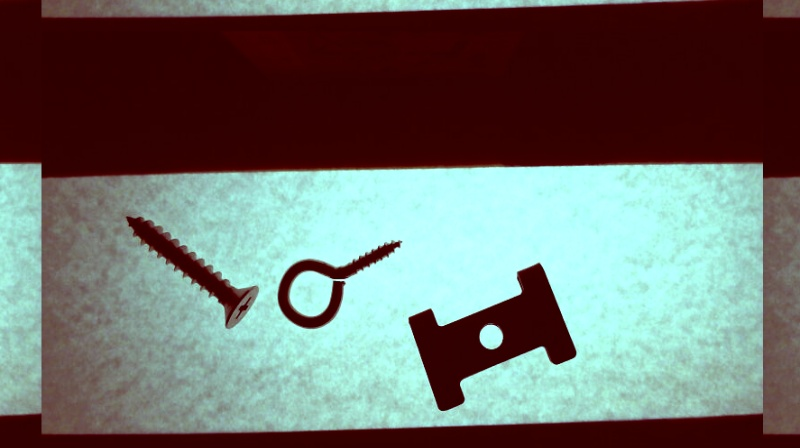O001: (273, 236, 406, 332)
O002: (404, 261, 580, 414)
S001: (121, 211, 263, 334)
